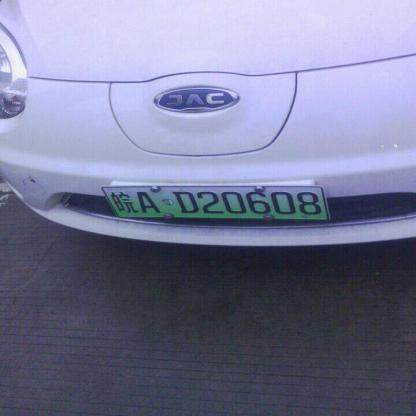lp: (103, 185, 330, 218)
